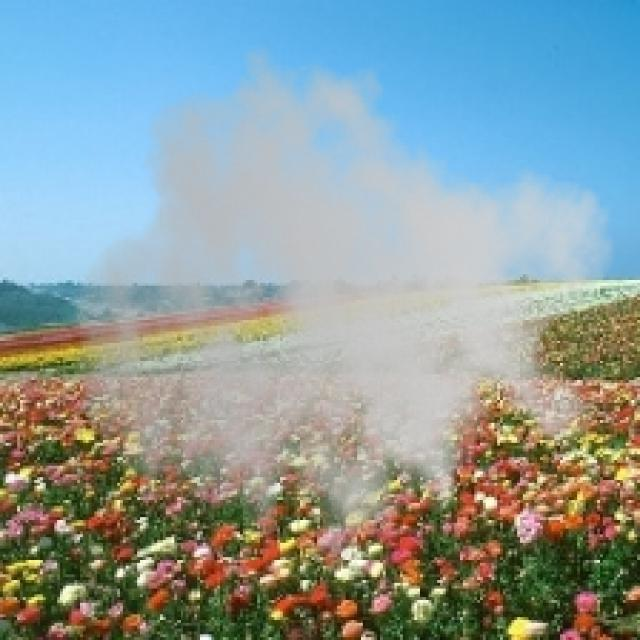Smoke: (72, 31, 618, 598)
